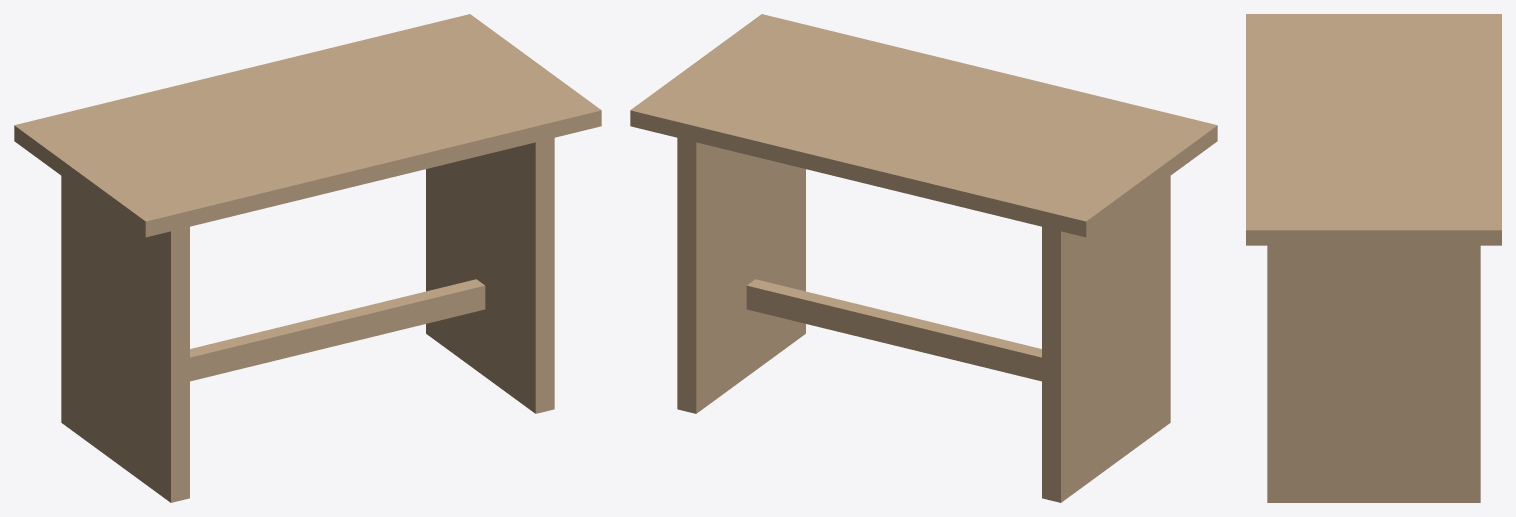
File: V020-personal-desk.glb
The picture shows the model from 3 angles, left to right: view 1: azimuth 30°, elevation 25°; view 2: azimuth 150°, elevation 25°; view 3: azimuth 270°, elevation 25°; orthographic projection. The views are drawn at different scales.
Parts seen in each view (by area): view 1: top, left-trestle, right-trestle, brace; view 2: top, left-trestle, right-trestle, brace; view 3: top, right-trestle.
Part boxes in pixels (x1,y1,x2,y2): top: (14, 14, 601, 237); left-trestle: (61, 176, 189, 502); right-trestle: (426, 138, 554, 413); brace: (190, 279, 485, 381); top: (630, 14, 1217, 237); left-trestle: (1042, 176, 1170, 502); right-trestle: (677, 138, 805, 413); brace: (746, 279, 1041, 381); top: (1246, 14, 1501, 245); right-trestle: (1267, 245, 1480, 502).
Bounding box in the file's own units: 1.2 × 0.75 × 0.6.
